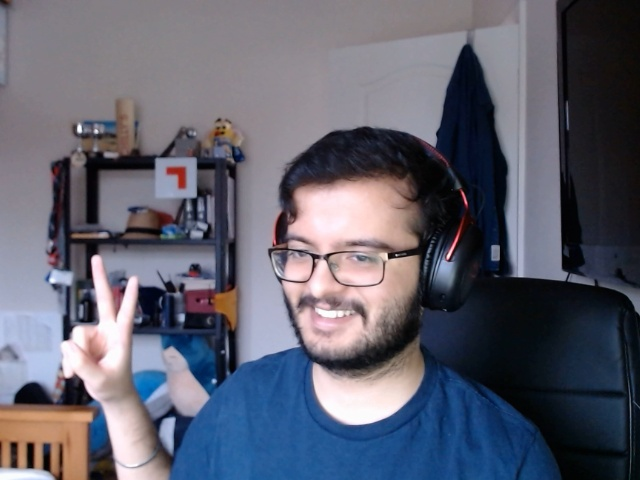Peace: (49, 247, 153, 417)
